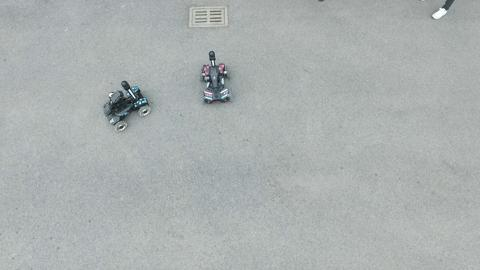chariot: (104, 79, 152, 131), (197, 50, 235, 106)
